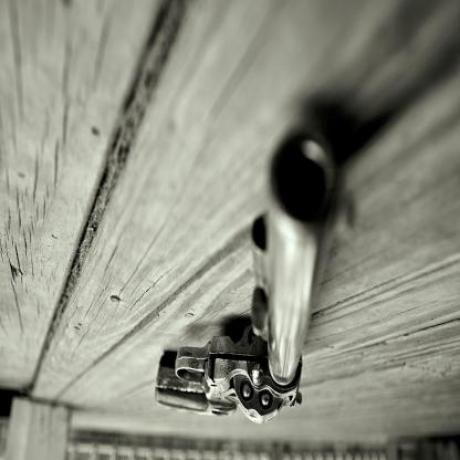weapon: (143, 123, 353, 436)
